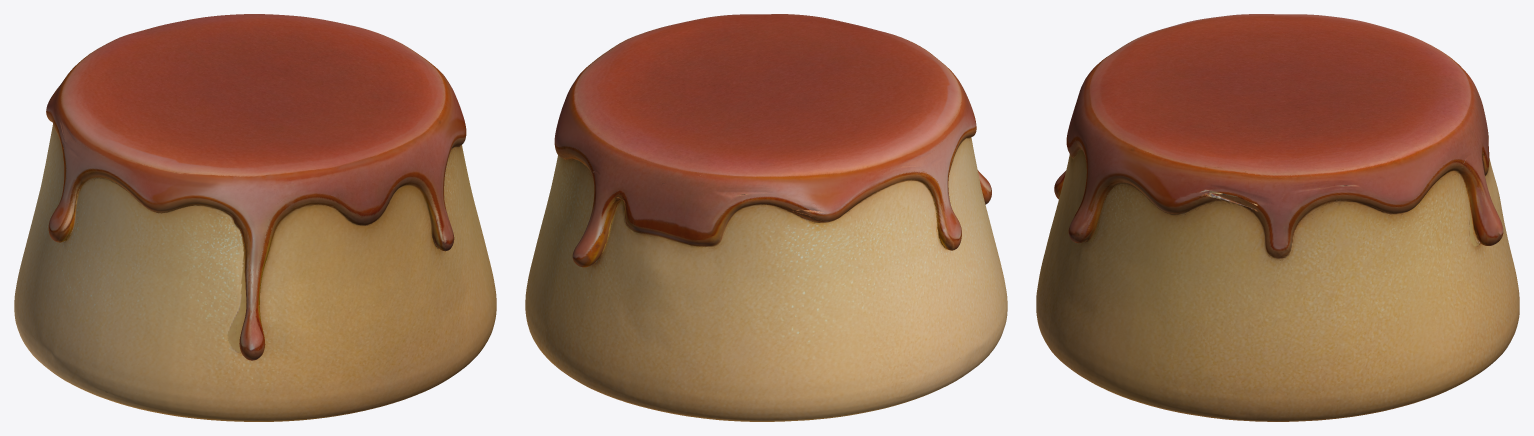
3 views of the same model, side by side, from view 1: azimuth 30°, elevation 25°; view 2: azimuth 150°, elevation 25°; view 3: azimuth 270°, elevation 25° (orthographic).
Visible parts, largest first — view 1: texture_mapping; view 2: texture_mapping; view 3: texture_mapping.
Boxes of the visible parts, bbox=[...] form: texture_mapping: bbox=[14, 14, 496, 421]; texture_mapping: bbox=[525, 14, 1007, 421]; texture_mapping: bbox=[1036, 14, 1519, 421].
Size of the model in its own units: 0.9995 by 0.9999 by 0.5577.
Materials: 1 (1 with a texture image).
